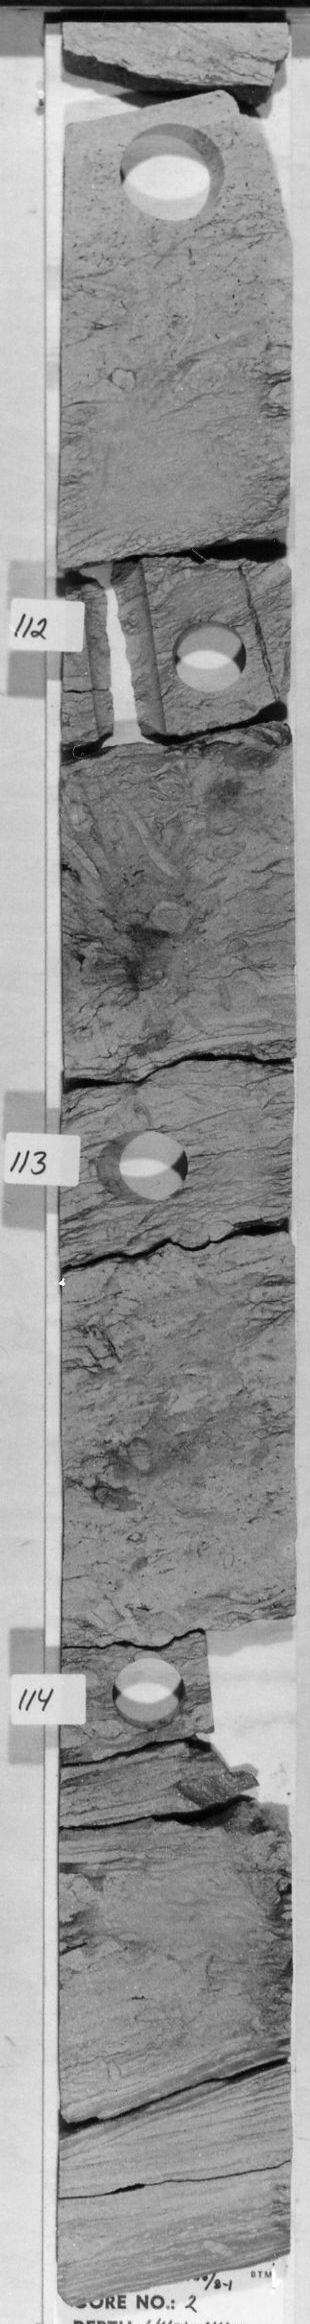hplug: (89, 1125, 197, 1203), (165, 615, 255, 695), (102, 1653, 191, 1733)
scal: (105, 119, 239, 228)
vplug: (71, 559, 169, 747), (197, 1620, 255, 1742)
